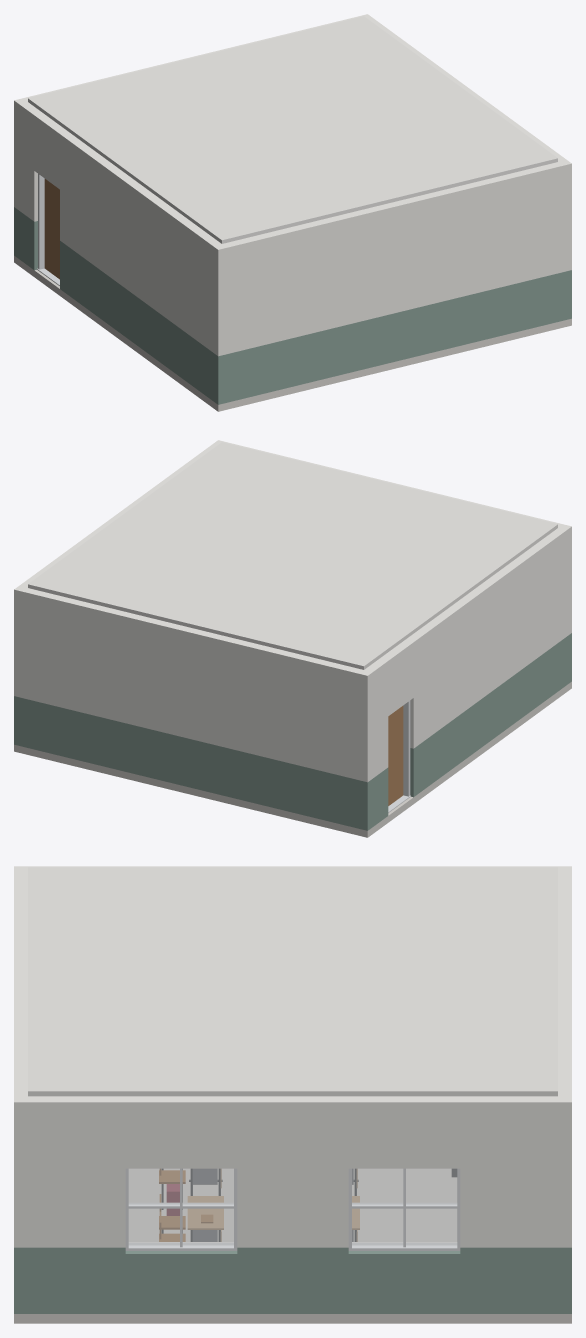
Rendered from classroom_production.glb.
3 views of the same model, one above another, from view 1: azimuth 30°, elevation 25°; view 2: azimuth 150°, elevation 25°; view 3: azimuth 270°, elevation 25° (orthographic). The views are drawn at different scales.
Parts seen in each view (by area): view 1: Classroom_Ceiling, Merged_Mat_Wall_Plaster, Merged_Mat_Wall_Dado, Classroom_Floor, Door_Leaf_Classroom, Merged_Mat_Aluminum_Brushed; view 2: Classroom_Ceiling, Merged_Mat_Wall_Plaster, Merged_Mat_Wall_Dado, Classroom_Floor, Door_Leaf_Classroom, Merged_Mat_Aluminum_Brushed; view 3: Classroom_Ceiling, Merged_Mat_Wall_Plaster, Merged_Mat_Wall_Dado, Classroom_Floor, Window_Glass_1, Window_Glass_2, Merged_Mat_Aluminum_Brushed, Merged_Mat_Wood_DeskTop, Merged_Mat_Steel_Dark, Merged_Mat_Wood_Varnish.
Boxes of the visible parts, bbox=[...] form: Classroom_Ceiling: bbox=[28, 16, 557, 243]; Merged_Mat_Wall_Plaster: bbox=[14, 14, 571, 356]; Merged_Mat_Wall_Dado: bbox=[14, 207, 571, 404]; Classroom_Floor: bbox=[14, 255, 571, 411]; Door_Leaf_Classroom: bbox=[44, 179, 59, 279]; Merged_Mat_Aluminum_Brushed: bbox=[37, 174, 59, 285]; Classroom_Ceiling: bbox=[28, 442, 557, 669]; Merged_Mat_Wall_Plaster: bbox=[14, 440, 571, 782]; Merged_Mat_Wall_Dado: bbox=[14, 633, 571, 830]; Classroom_Floor: bbox=[14, 681, 571, 837]; Door_Leaf_Classroom: bbox=[388, 706, 403, 805]; Merged_Mat_Aluminum_Brushed: bbox=[388, 700, 410, 812]; Classroom_Ceiling: bbox=[28, 867, 557, 1096]; Merged_Mat_Wall_Plaster: bbox=[14, 866, 571, 1247]; Merged_Mat_Wall_Dado: bbox=[14, 1247, 571, 1313]; Classroom_Floor: bbox=[14, 1168, 571, 1323]; Window_Glass_1: bbox=[352, 1169, 456, 1245]; Window_Glass_2: bbox=[129, 1169, 233, 1245]; Merged_Mat_Aluminum_Brushed: bbox=[125, 1168, 460, 1250]; Merged_Mat_Wood_DeskTop: bbox=[187, 1169, 359, 1241]; Merged_Mat_Steel_Dark: bbox=[161, 1168, 457, 1241]; Merged_Mat_Wood_Varnish: bbox=[159, 1168, 213, 1241].
Bounding box in the file's own units: 8 × 3.58 × 8.
